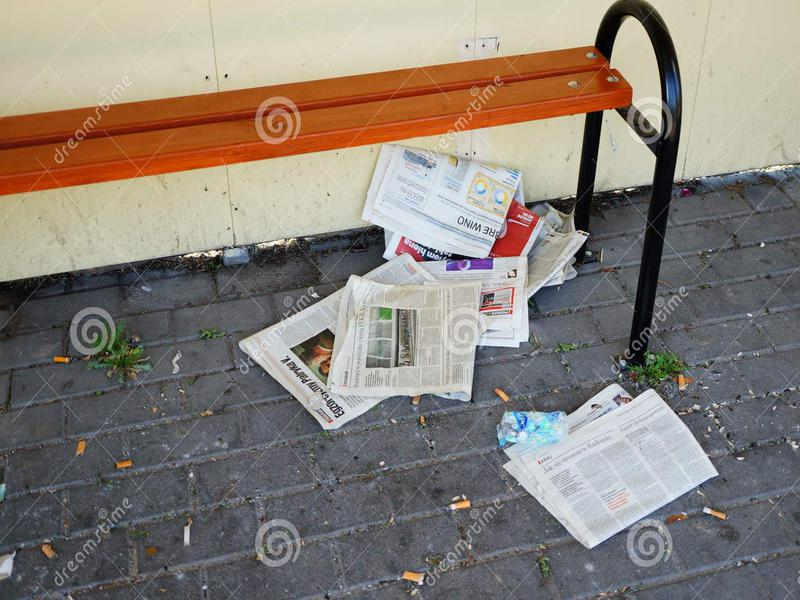paper: (499, 373, 726, 551), (349, 140, 588, 266), (329, 260, 487, 409)
